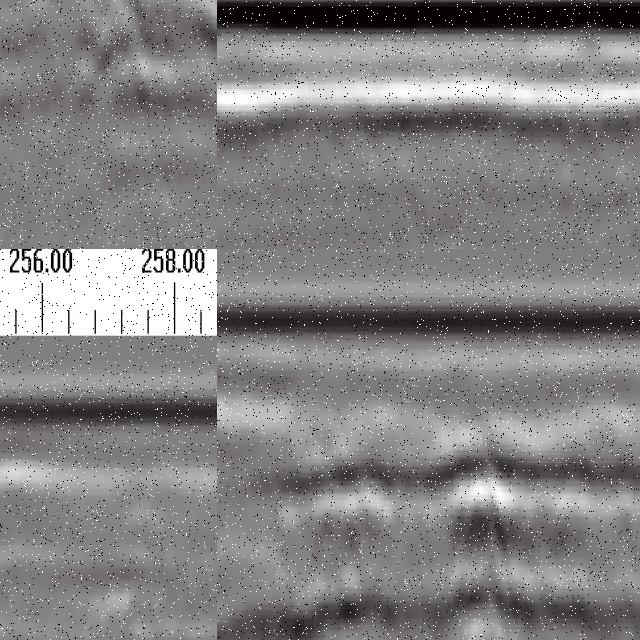loose: (261, 415, 592, 640), (1, 1, 218, 133)
